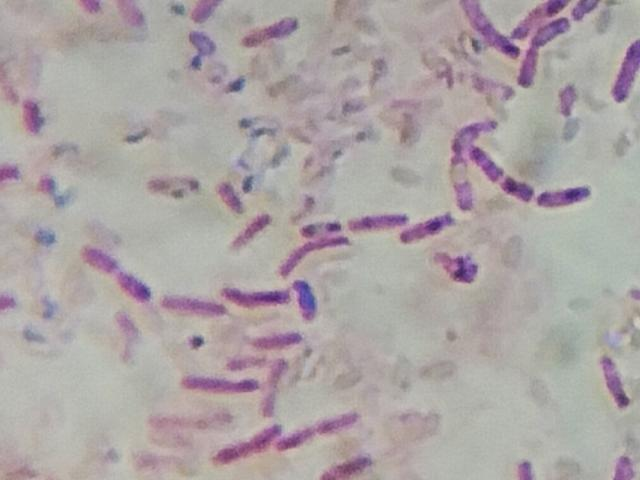E. coli: (464, 1, 513, 57), (607, 30, 640, 106), (278, 414, 359, 443), (209, 425, 279, 457), (600, 352, 634, 417), (179, 372, 252, 399), (227, 279, 285, 311), (226, 215, 272, 255), (162, 289, 223, 319), (398, 209, 450, 244), (260, 354, 287, 416), (247, 20, 303, 48), (320, 452, 374, 480), (513, 0, 568, 27), (543, 177, 593, 206), (254, 330, 306, 355), (349, 208, 403, 231), (18, 94, 43, 140), (118, 269, 152, 302), (300, 215, 342, 239), (83, 247, 120, 274), (500, 174, 534, 203), (228, 351, 269, 373), (474, 144, 501, 176), (219, 182, 244, 214), (573, 0, 606, 23), (196, 0, 223, 27), (524, 38, 537, 85)
